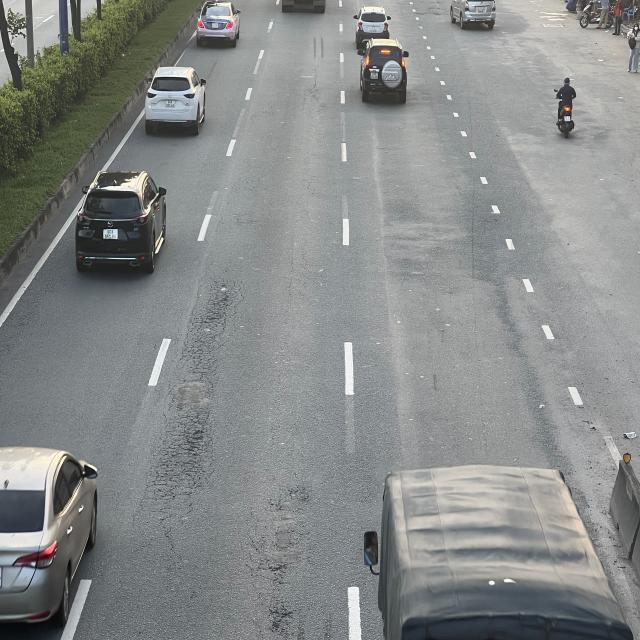car: (0, 446, 100, 638), (76, 170, 170, 277), (147, 64, 210, 134), (355, 39, 408, 102), (196, 0, 240, 45), (352, 5, 392, 48)
